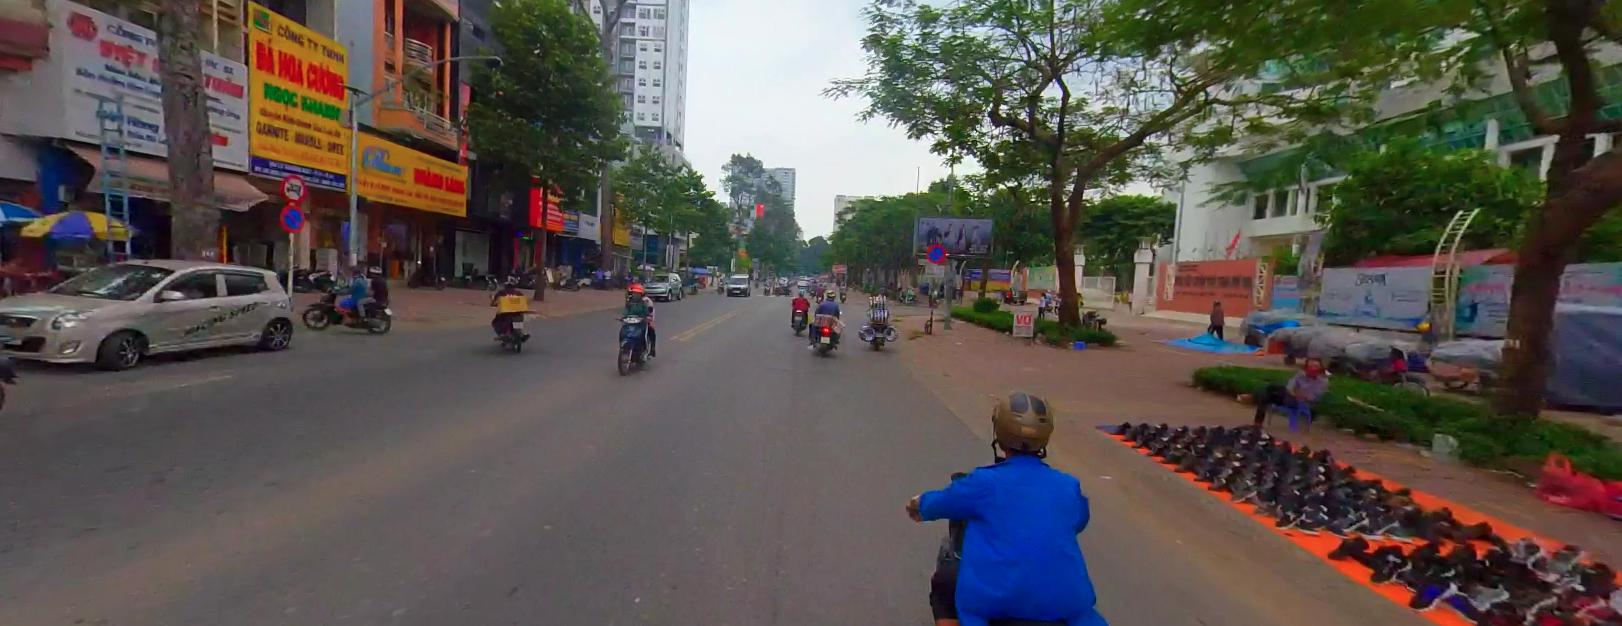Cam con lai: (278, 173, 307, 201)
Cam dung va do: (279, 204, 304, 231), (922, 242, 945, 264)
